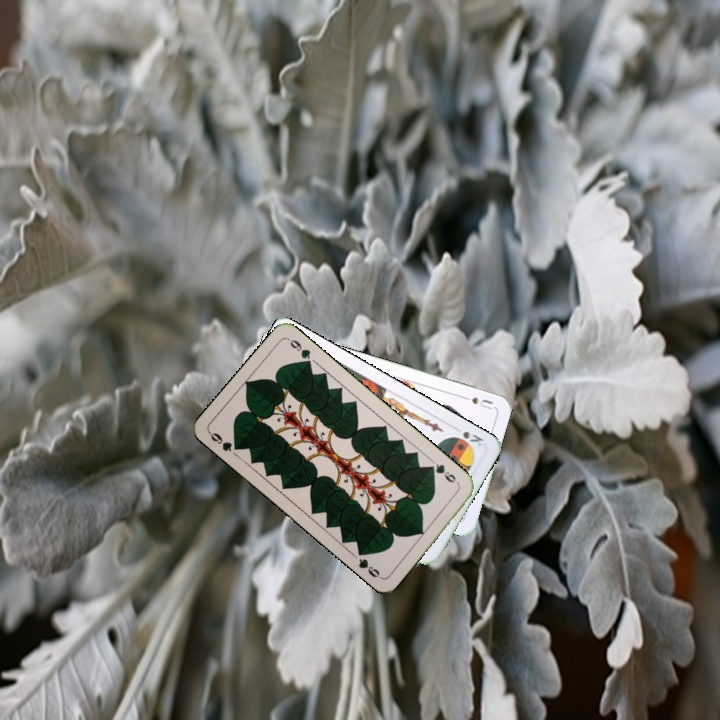G9: (425, 460, 462, 488), (205, 428, 244, 454)
SK: (450, 427, 486, 449)
SU: (456, 391, 495, 412)
